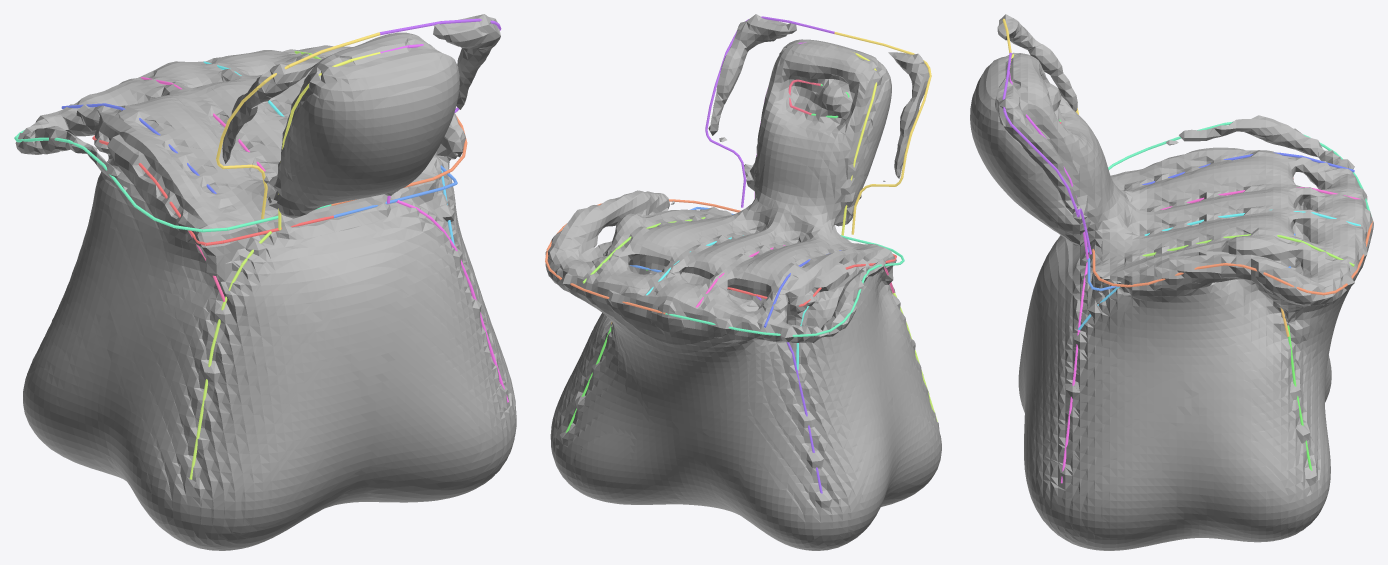
Rendered from author1_chair.gltf.
3 renders of one model, left to right at view 1: azimuth 30°, elevation 25°; view 2: azimuth 150°, elevation 25°; view 3: azimuth 270°, elevation 25°, orthographic. The views are drawn at different scales.
Size of the model in its own units: 0.5997 by 0.7514 by 0.6147.
